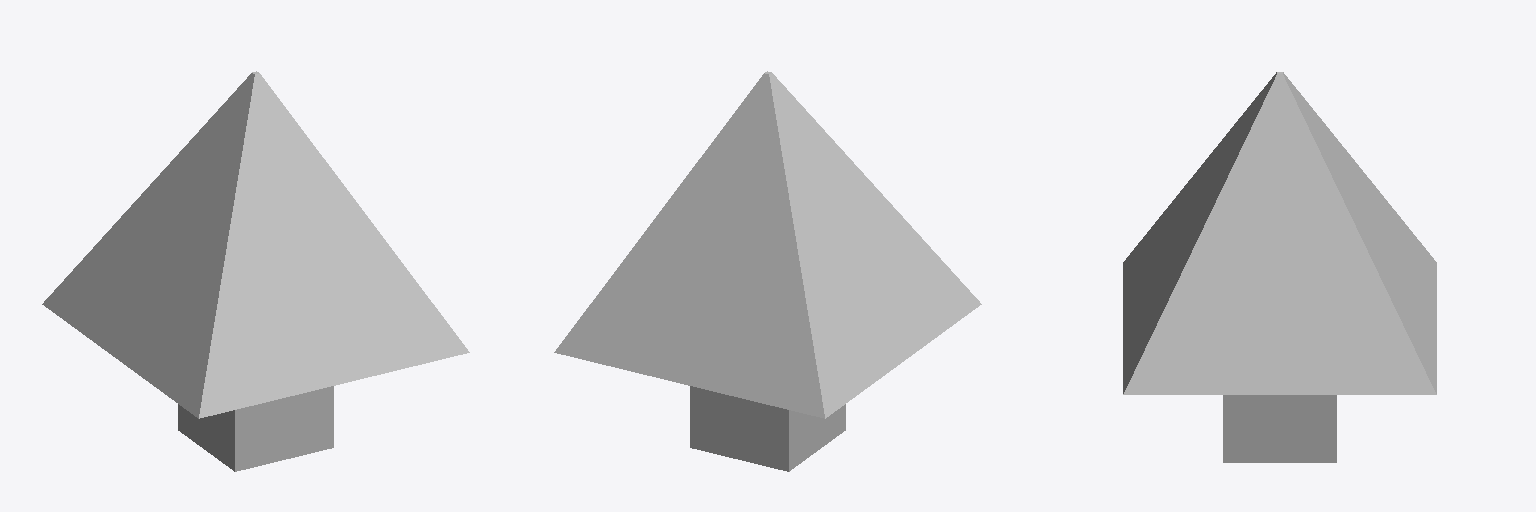
The model's file is pine-tree.obj.
The picture shows the model from 3 angles: view 1: azimuth 30°, elevation 25°; view 2: azimuth 150°, elevation 25°; view 3: azimuth 270°, elevation 25°; orthographic projection.
Parts seen in each view (by area): view 1: Cube; view 2: Cube; view 3: Cube.
Boxes of the visible parts, x1,y1,x2,y2 form: Cube: [42, 71, 469, 471]; Cube: [554, 71, 981, 471]; Cube: [1123, 72, 1436, 462].
Size of the model in its own units: 5.49 by 7.08 by 5.49.